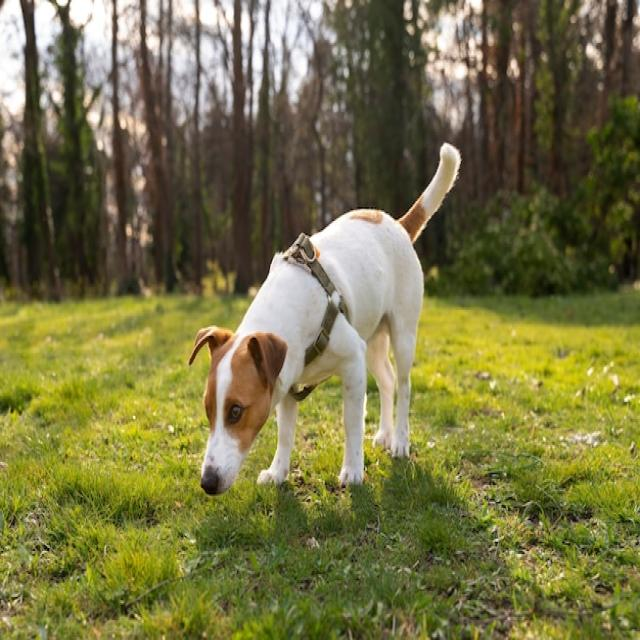Dog: (189, 143, 461, 496)
